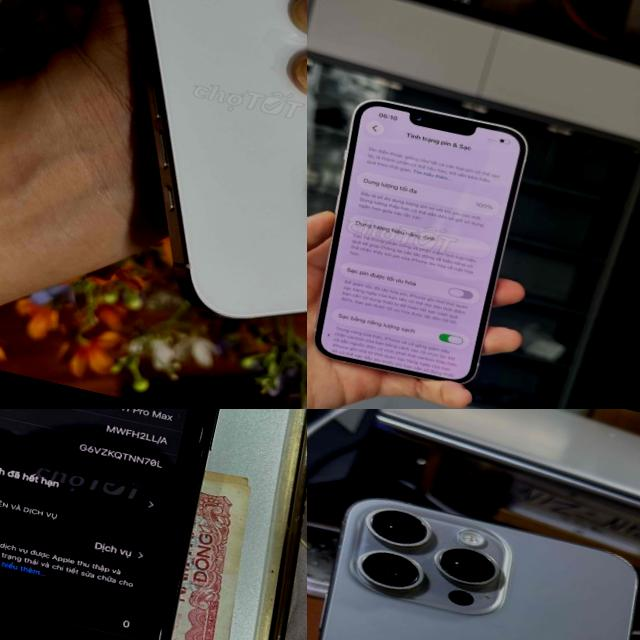gen_11: (0, 409, 253, 640)
gen_12_13: (307, 87, 535, 397)
gen_14: (307, 493, 640, 640)
gen_16: (131, 0, 307, 319)
